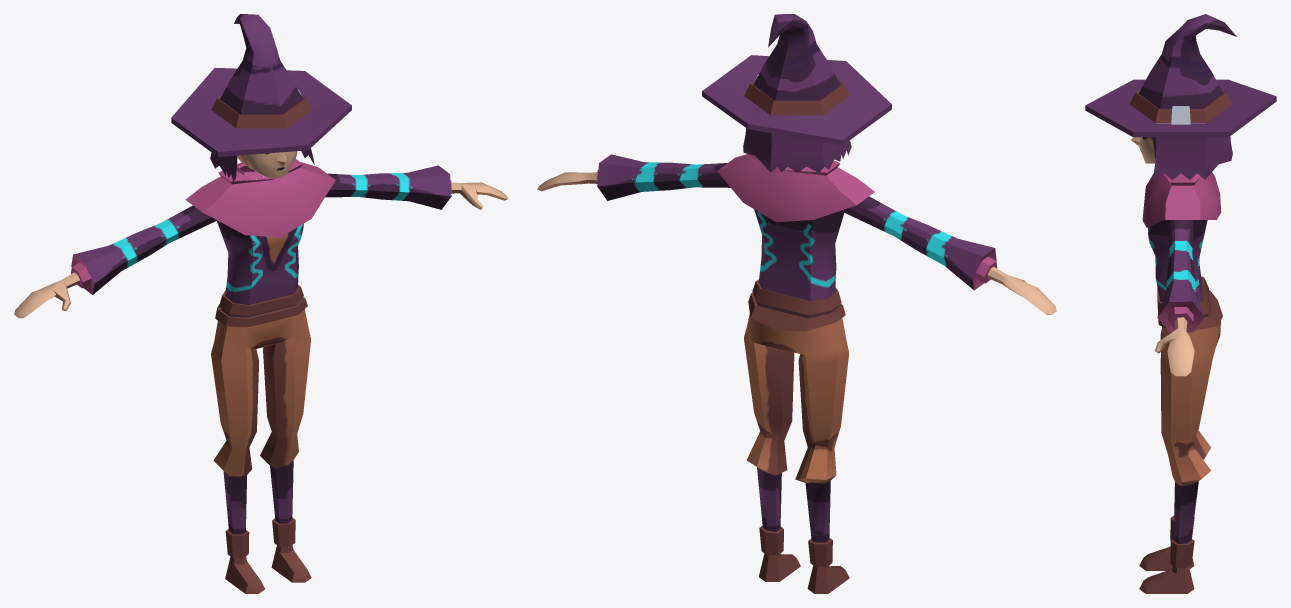
Rendered from map.glb.
The picture shows the model from 3 angles, left to right: view 1: azimuth 30°, elevation 25°; view 2: azimuth 150°, elevation 25°; view 3: azimuth 270°, elevation 25°; orthographic projection. The views are drawn at different scales.
Parts seen in each view (by area): view 1: Mage; view 2: Mage; view 3: Mage.
Part boxes in pixels (x1=…): Mage: x1=14, y1=14, x2=508, y2=593; Mage: x1=537, y1=14, x2=1056, y2=593; Mage: x1=1085, y1=14, x2=1276, y2=593.
Size of the model in its own units: 3.35 by 3.6 by 1.11.
Materials: 1 (1 with a texture image).
